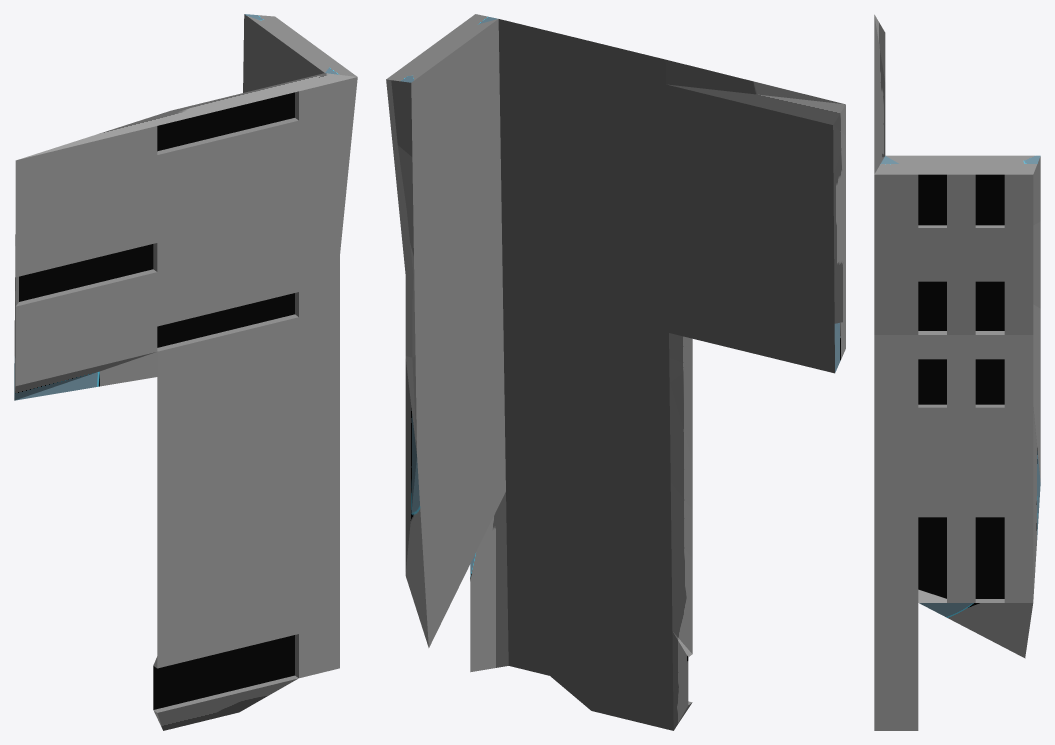
The model's file is TargetDebris_6.fbx.
3 views of the same model, side by side, from view 1: azimuth 30°, elevation 25°; view 2: azimuth 150°, elevation 25°; view 3: azimuth 270°, elevation 25° (orthographic). The views are drawn at different scales.
Parts seen in each view (by area): view 1: Cube; view 2: Cube; view 3: Cube.
Part boxes in pixels (x1=…): Cube: x1=14, y1=14, x2=357, y2=730; Cube: x1=386, y1=14, x2=845, y2=730; Cube: x1=874, y1=14, x2=1040, y2=730.
Size of the model in its own units: 299 by 517 by 131.
1 material, 1 textured.
